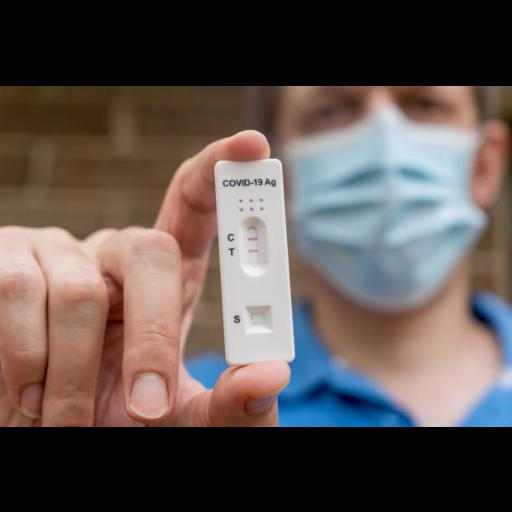Pos: (214, 157, 296, 364)
